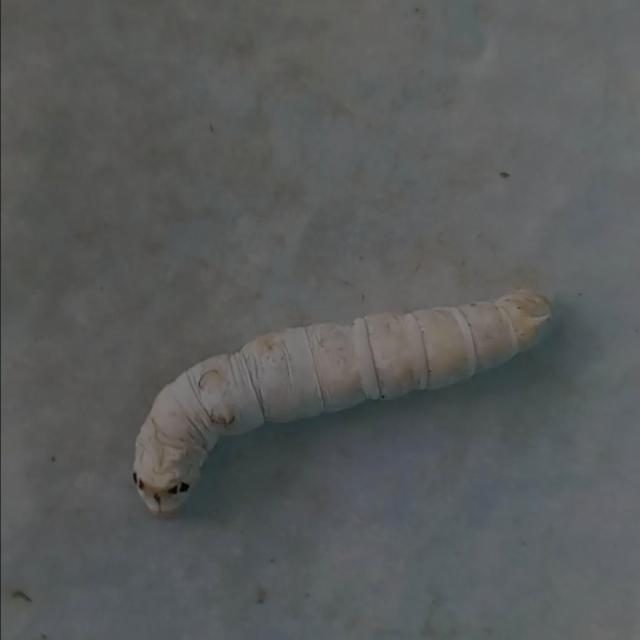Grasserie: (117, 265, 572, 532)
